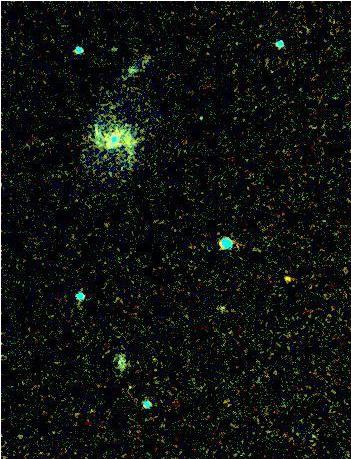star: (272, 263, 302, 293)
